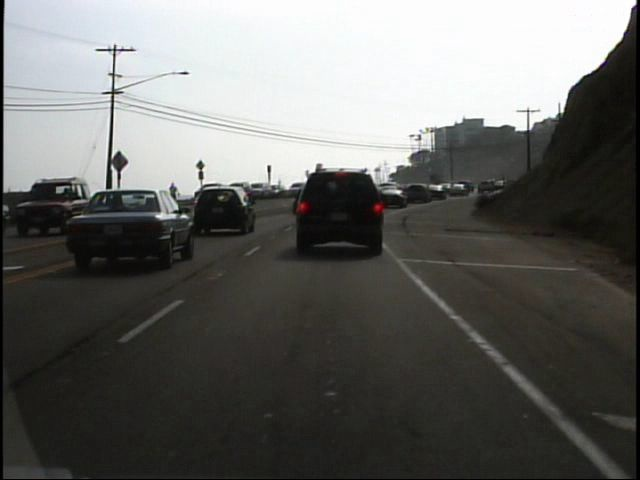person: (166, 180, 182, 208)
